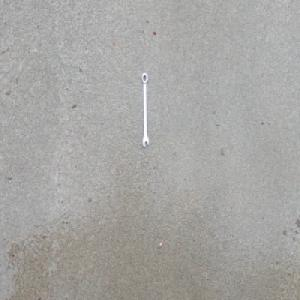Wrench: (141, 71, 150, 148)
